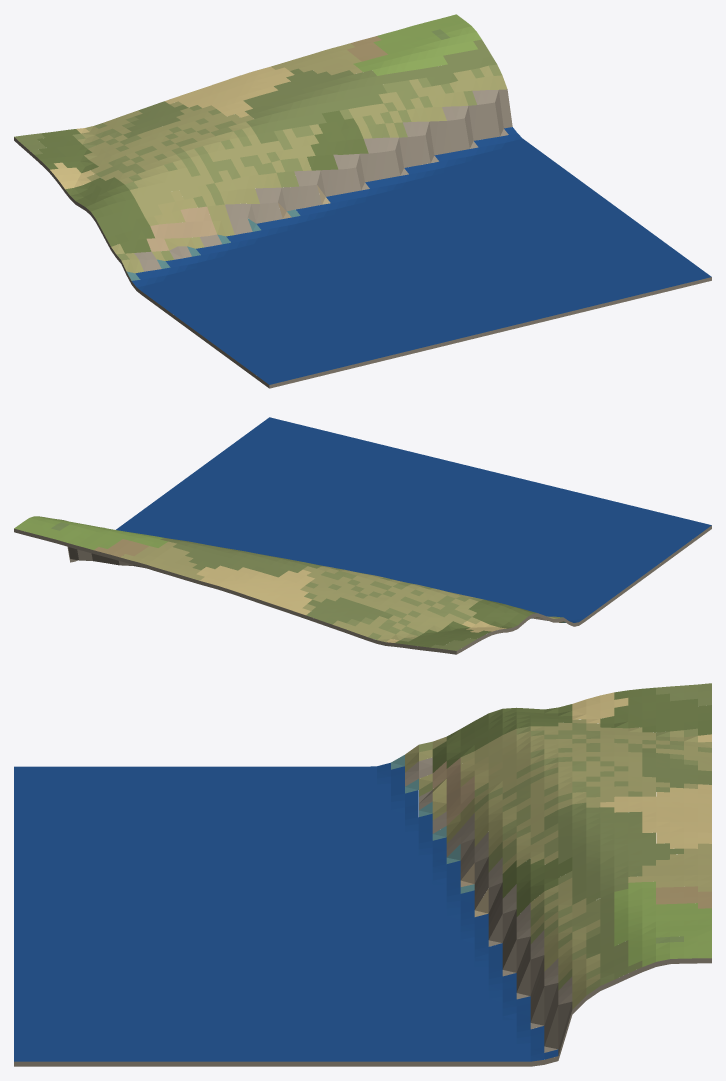
File: parca_+10_-8-uzak.glb
3 views of the same model, one above another, from view 1: azimuth 30°, elevation 25°; view 2: azimuth 150°, elevation 25°; view 3: azimuth 270°, elevation 25° (orthographic). The views are drawn at different scales.
Visible parts, largest first — view 1: parca_+10_-8_arazi_uzak; view 2: parca_+10_-8_arazi_uzak; view 3: parca_+10_-8_arazi_uzak.
Boxes of the visible parts, x1,y1,x2,y2 form: parca_+10_-8_arazi_uzak: [14, 14, 711, 388]; parca_+10_-8_arazi_uzak: [14, 417, 711, 654]; parca_+10_-8_arazi_uzak: [14, 683, 711, 1066].
Bounding box in the file's own units: 1000 × 172 × 1000.
